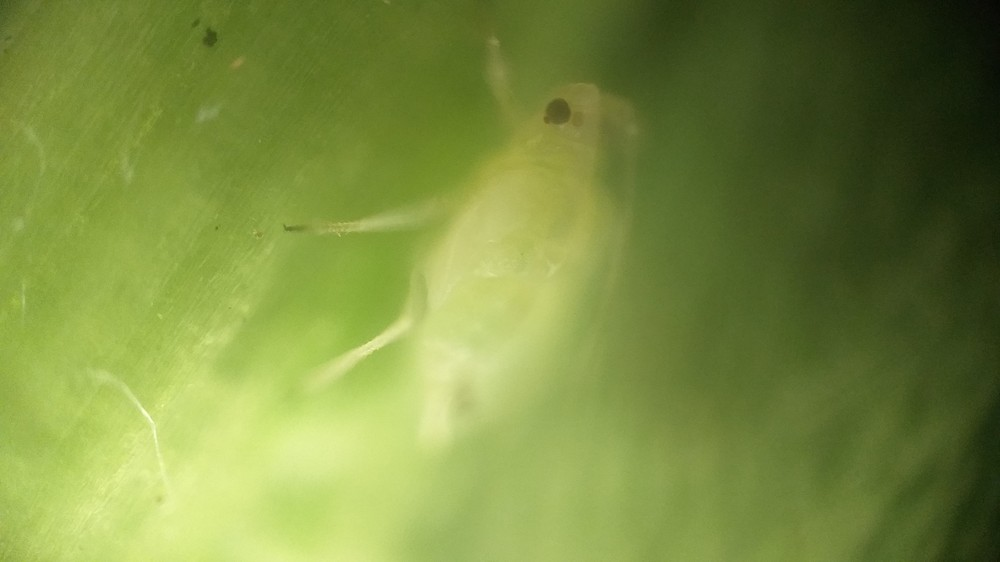Pulgon: (258, 27, 688, 519)
